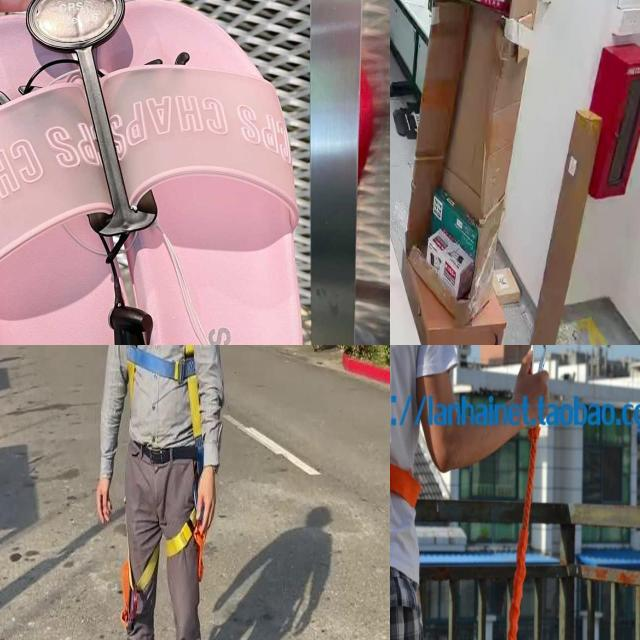Harness: (121, 520, 205, 630), (128, 345, 202, 448)
Sandals: (0, 0, 318, 345)
